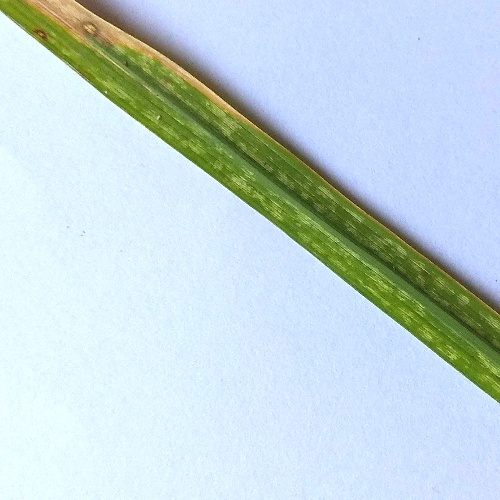Busuk Leher: (72, 17, 117, 44), (51, 1, 89, 19), (34, 23, 53, 45)
